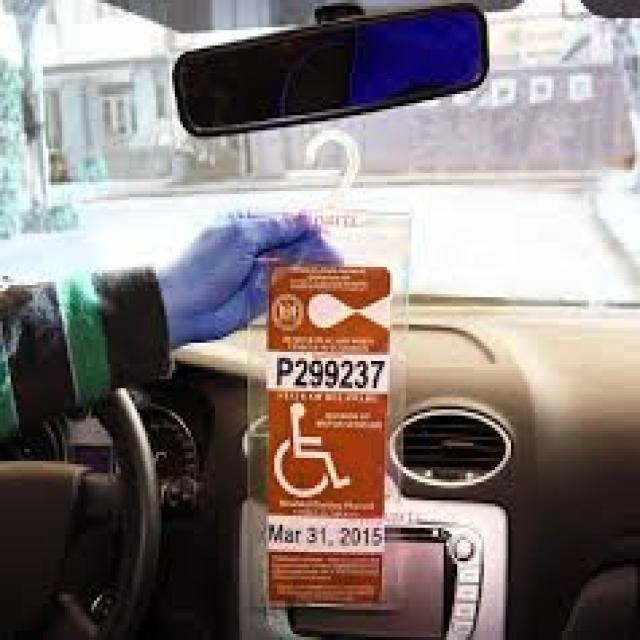ISA: (277, 402, 354, 503)
